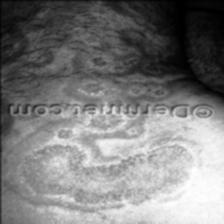Toxin: (54, 41, 136, 74), (36, 130, 90, 149)
